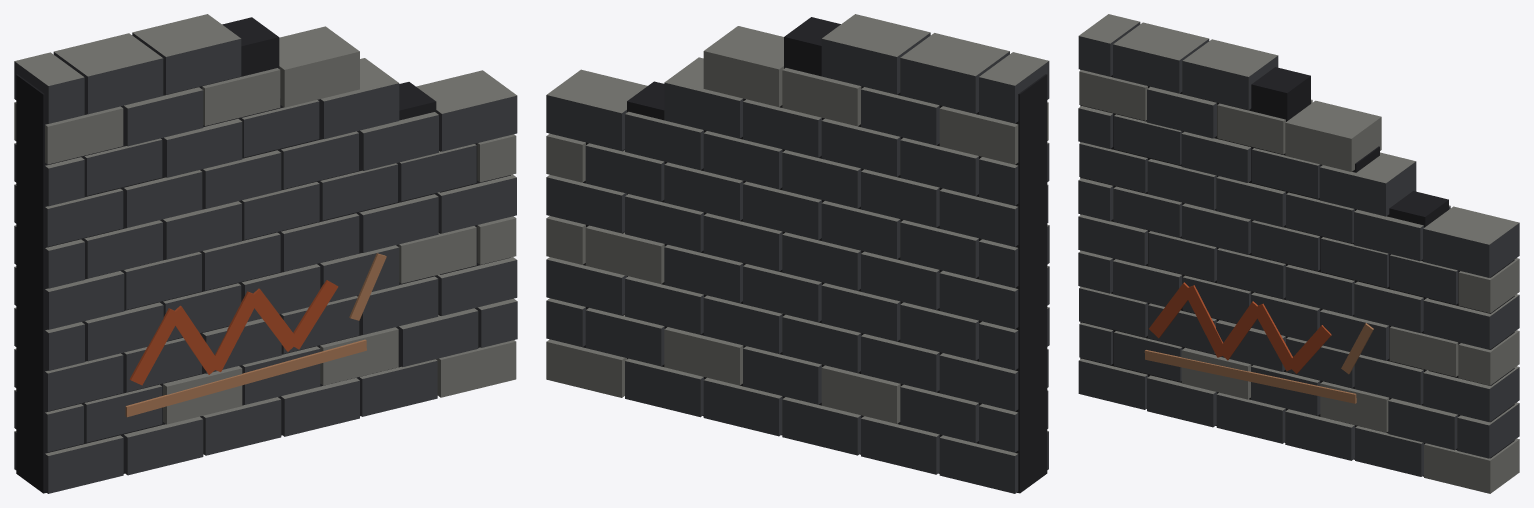
The model's file is hollis_cmu_wall.glb.
3 views of the same model, side by side, from view 1: azimuth 30°, elevation 25°; view 2: azimuth 150°, elevation 25°; view 3: azimuth 330°, elevation 25° (orthographic). The views are drawn at different scales.
Parts seen in each view (by area): view 1: hollis_cmu_wall; view 2: hollis_cmu_wall; view 3: hollis_cmu_wall.
Part boxes in pixels (bbox=[...]): hollis_cmu_wall: bbox=[14, 14, 517, 493]; hollis_cmu_wall: bbox=[546, 14, 1049, 493]; hollis_cmu_wall: bbox=[1078, 14, 1519, 493].
Size of the model in its own units: 2.39 by 1.99 by 0.314.
